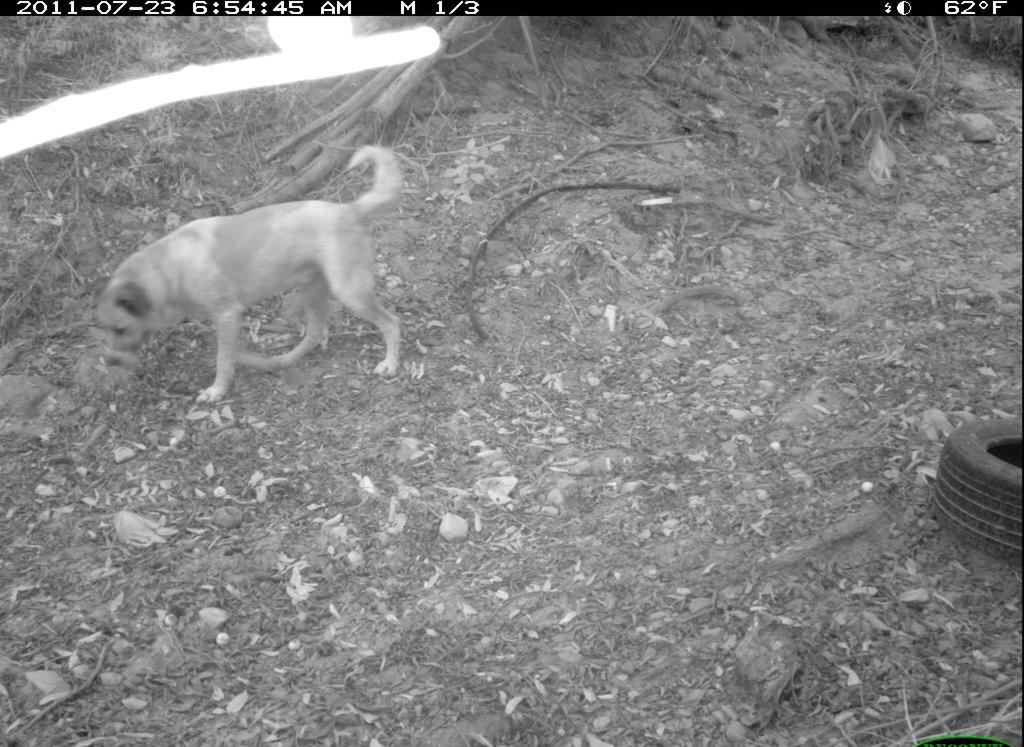dog: (86, 140, 415, 411)
